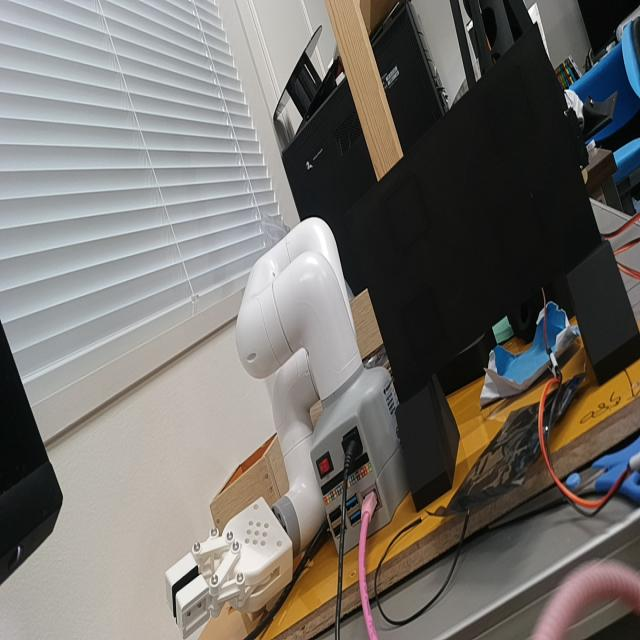Wall: (346, 19, 600, 404)
